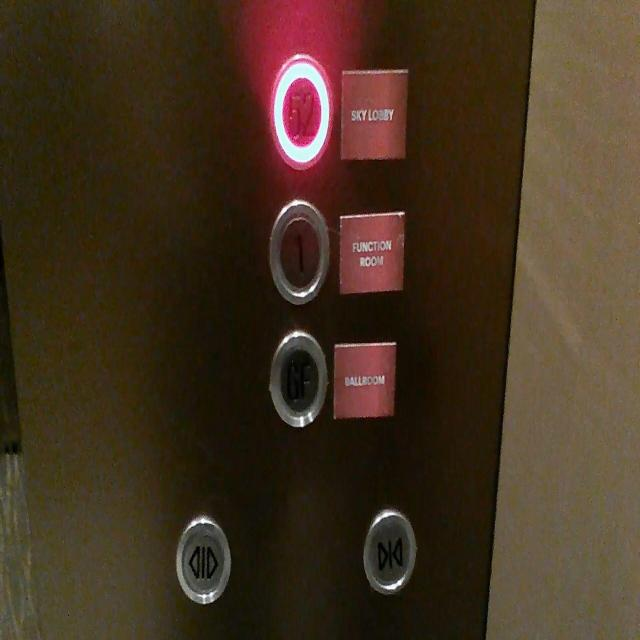1: (266, 192, 331, 310)
52: (267, 46, 334, 173)
GF: (267, 324, 327, 430)
close: (360, 503, 420, 599)
open: (173, 512, 233, 607)
